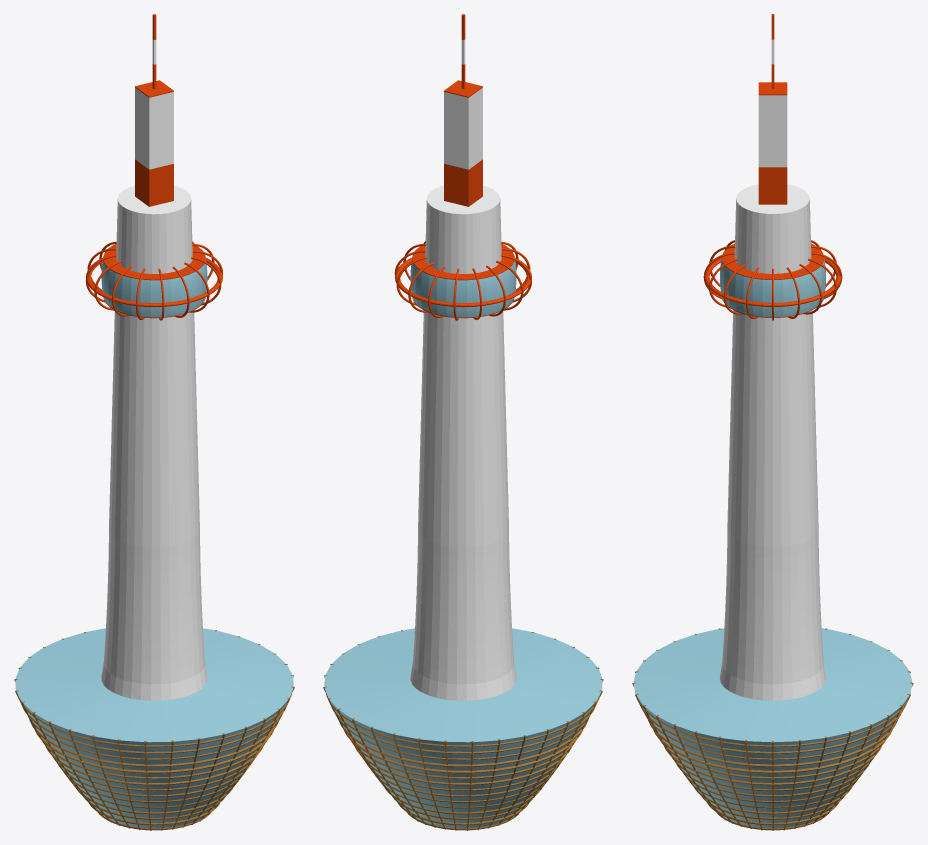
Rendered from Symbol.fbx.
3 renders of one model, left to right at view 1: azimuth 30°, elevation 25°; view 2: azimuth 150°, elevation 25°; view 3: azimuth 270°, elevation 25°, orthographic.
Parts seen in each view (by area): view 1: 円柱, 円柱.004, 円柱.001, 立方体.001, 円柱.006, トーラス.002, 立方体, 円柱.003, トーラス, トーラス.006, トーラス.005, トーラス.003 (+4 smaller); view 2: 円柱, 円柱.004, 円柱.001, 立方体.001, 円柱.006, トーラス.002, 立方体, 円柱.003, トーラス, トーラス.006, トーラス.005, トーラス.003 (+4 smaller); view 3: 円柱, 円柱.004, 円柱.001, 円柱.006, 立方体.001, トーラス.002, 立方体, 円柱.003, トーラス, トーラス.006, トーラス.005, トーラス.003 (+4 smaller).
Boxes of the visible parts, <box> form: 円柱: <box>101,185,207,700</box>; 円柱.004: <box>15,628,293,830</box>; 円柱.001: <box>101,258,207,317</box>; 立方体.001: <box>135,87,173,169</box>; 円柱.006: <box>14,630,294,830</box>; トーラス.002: <box>85,241,222,320</box>; 立方体: <box>135,159,173,206</box>; 円柱.003: <box>103,243,205,280</box>; トーラス: <box>86,257,222,307</box>; トーラス.006: <box>35,730,273,773</box>; トーラス.005: <box>29,719,279,766</box>; トーラス.003: <box>21,704,285,753</box>; 円柱: <box>410,185,516,700</box>; 円柱.004: <box>324,628,602,830</box>; 円柱.001: <box>410,258,516,317</box>; 立方体.001: <box>444,87,482,169</box>; 円柱.006: <box>323,630,603,830</box>; トーラス.002: <box>394,241,531,320</box>; 立方体: <box>444,159,482,206</box>; 円柱.003: <box>412,243,514,280</box>; トーラス: <box>395,257,531,307</box>; トーラス.006: <box>343,729,582,773</box>; トーラス.005: <box>338,719,588,766</box>; トーラス.003: <box>332,704,596,753</box>; 円柱: <box>719,184,826,700</box>; 円柱.004: <box>633,628,912,830</box>; 円柱.001: <box>720,259,825,317</box>; 円柱.006: <box>632,628,913,830</box>; 立方体.001: <box>758,95,787,167</box>; トーラス.002: <box>703,240,842,320</box>; 立方体: <box>758,167,787,204</box>; 円柱.003: <box>721,243,824,279</box>; トーラス: <box>704,257,841,306</box>; トーラス.006: <box>653,729,892,773</box>; トーラス.005: <box>648,721,897,766</box>; トーラス.003: <box>641,707,904,753</box>.
Bounding box in the file's own units: 6169 × 19146 × 6169.
